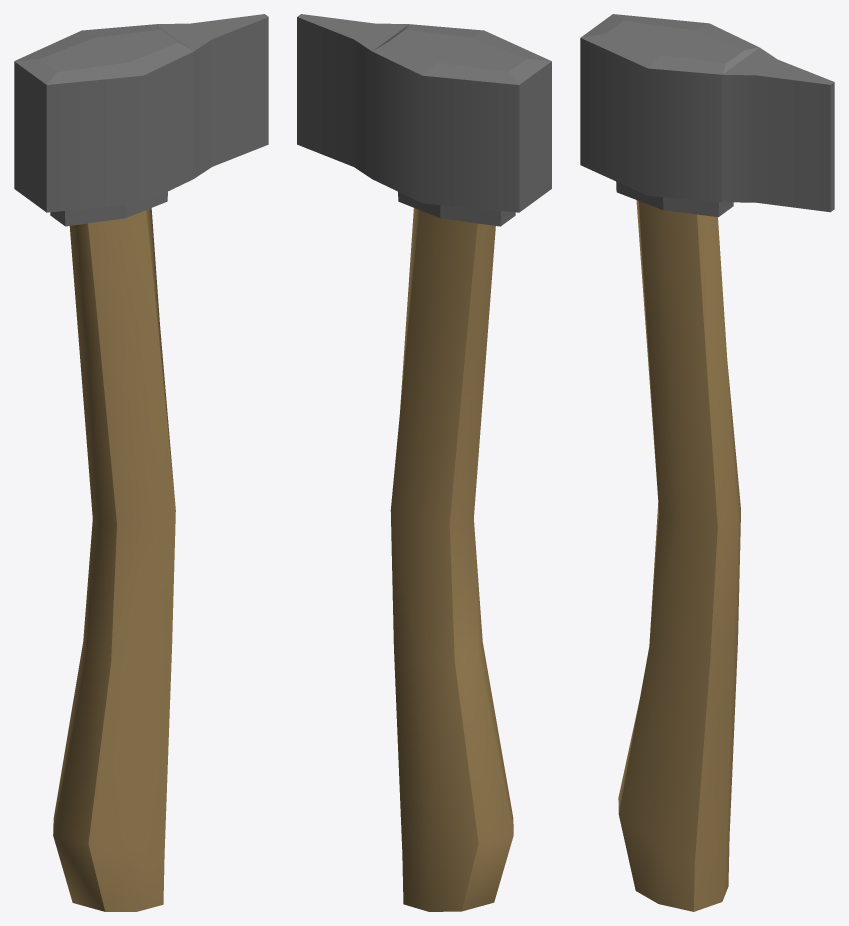
Rendered from Axe.fbx.
3 views of the same model, side by side, from view 1: azimuth 30°, elevation 25°; view 2: azimuth 150°, elevation 25°; view 3: azimuth 330°, elevation 25° (orthographic).
Parts seen in each view (by area): view 1: pCube4; view 2: pCube4; view 3: pCube4.
Part boxes in pixels (bbox=[...]): pCube4: bbox=[14, 14, 268, 911]; pCube4: bbox=[297, 14, 551, 911]; pCube4: bbox=[580, 14, 834, 911].
Size of the model in its own units: 3.17 by 10.92 by 1.43.
